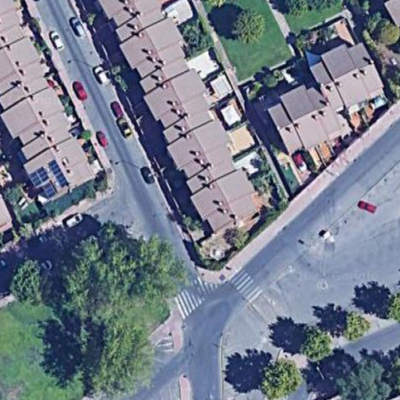tree: (64, 239, 179, 320), (75, 325, 157, 392), (330, 355, 391, 400), (251, 352, 304, 399), (10, 261, 51, 302), (301, 325, 338, 366), (229, 10, 266, 44), (344, 305, 375, 345), (370, 14, 400, 49)
